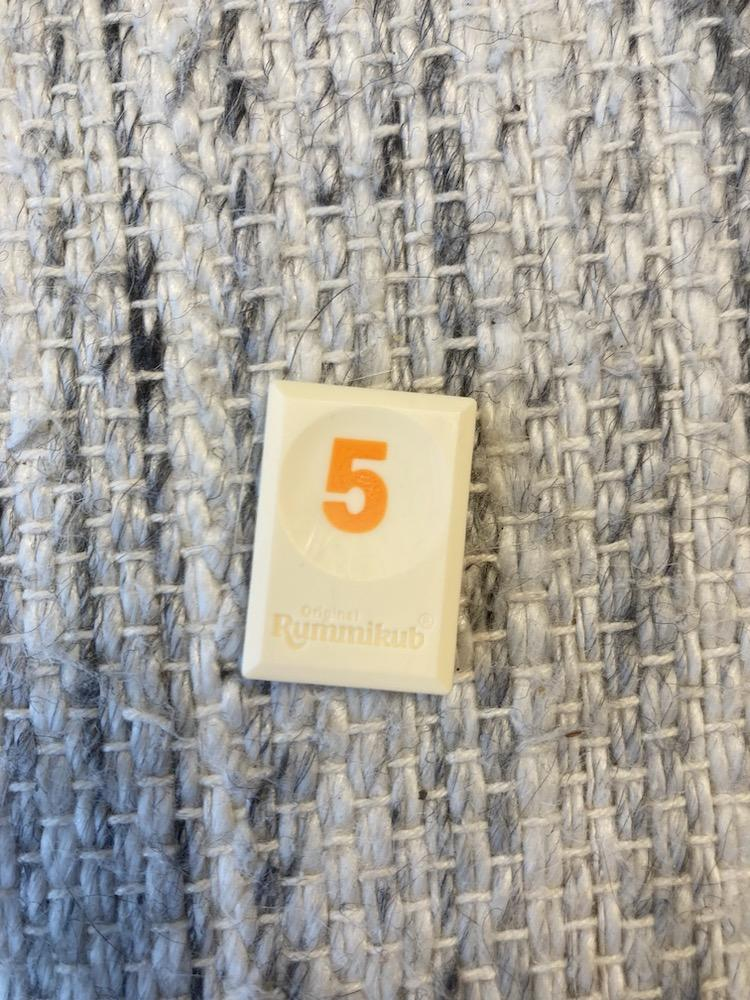orange_5: (242, 381, 475, 693)
